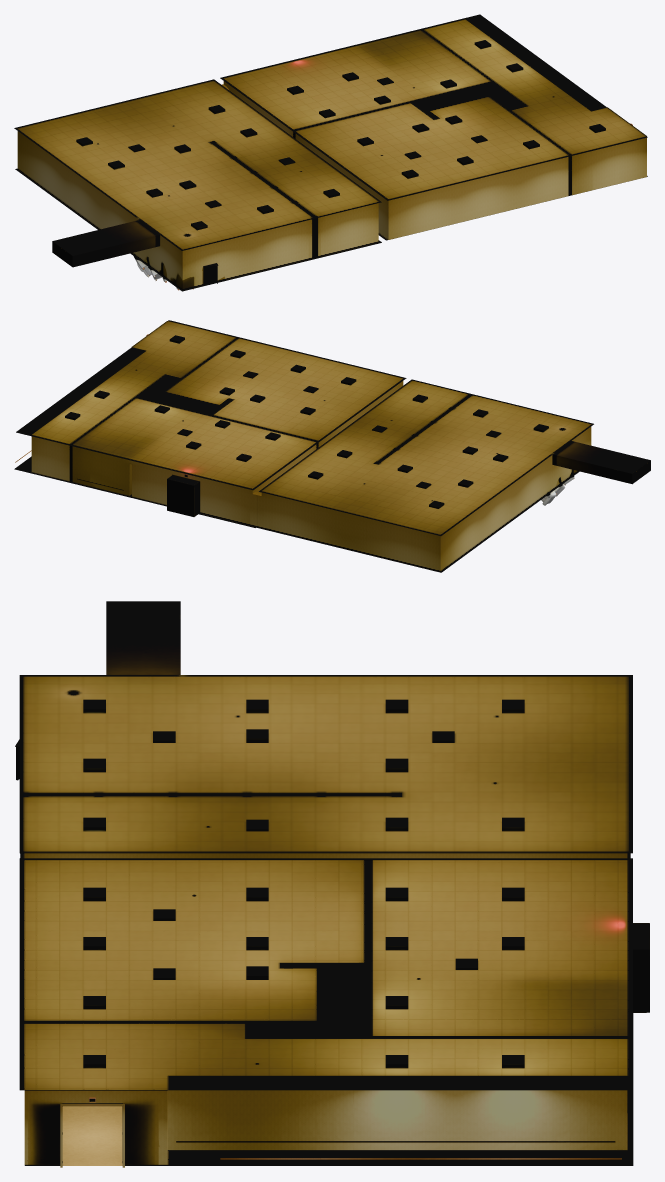
Rendered from Backrooms 1.fbx.
3 renders of one model, top to bottom at view 1: azimuth 30°, elevation 25°; view 2: azimuth 150°, elevation 25°; view 3: azimuth 270°, elevation 25°, orthographic. The views are drawn at different scales.
Parts seen in each view (by area): view 1: Object_54, Object_56, Object_34, Object_38, Object_30; view 2: Object_54, Object_56, Object_34, Object_38, Object_28, Object_30; view 3: Object_54, Object_56, Object_38, Object_28, Object_34, Object_42.
Part boxes in pixels (x1,y1,x2,y2): Object_54: (220,14,647,200); Object_56: (14,79,381,250); Object_34: (17,131,378,289); Object_38: (222,19,646,239); Object_30: (15,168,381,291); Object_54: (16,320,406,490); Object_56: (259,379,593,535); Object_34: (257,426,650,571); Object_38: (31,321,403,526); Object_28: (14,456,256,527); Object_30: (257,471,579,572); Object_54: (19,858,632,1090); Object_56: (19,675,632,853); Object_38: (24,860,649,1164); Object_28: (24,1013,633,1165); Object_34: (24,601,627,858); Object_42: (27,1158,621,1160).
Size of the model in its own units: 3785 by 390 by 2036.
